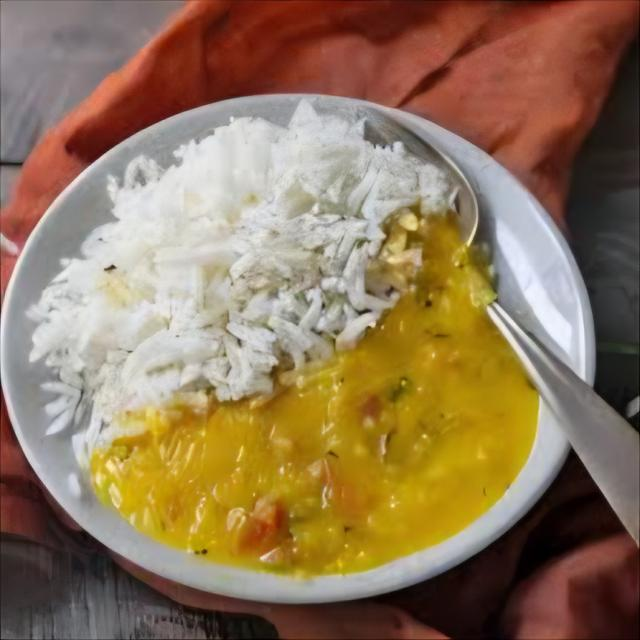RICE: (28, 116, 445, 450)
VEGGIES: (79, 218, 536, 566)
